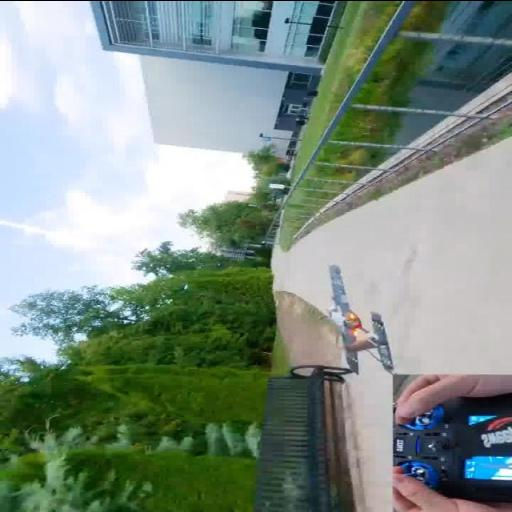uav: (314, 260, 400, 380)
